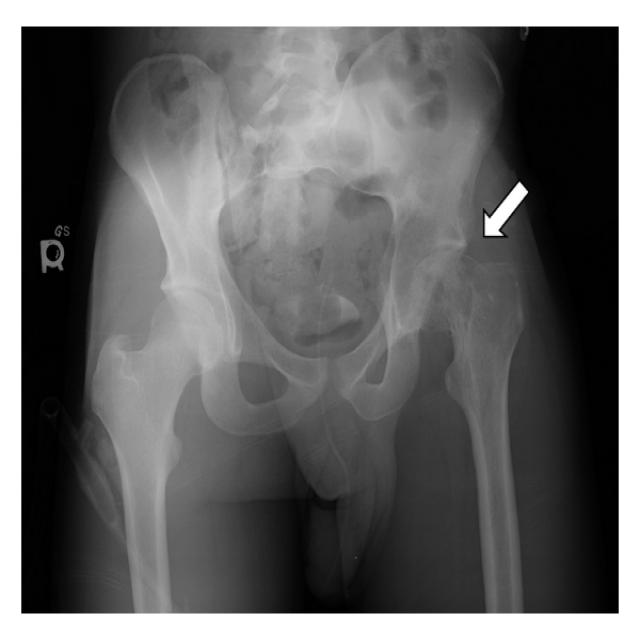fracture: (409, 178, 551, 372)
